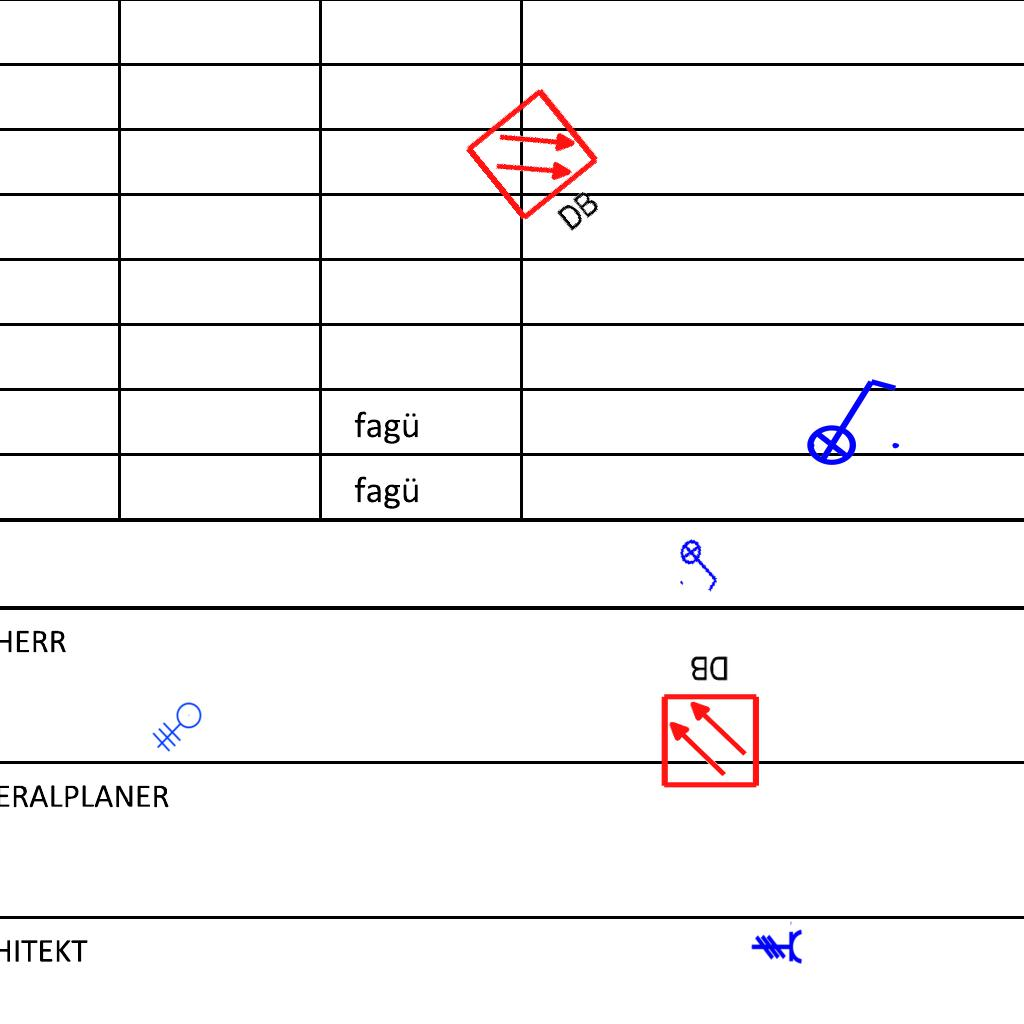Ausschalter_beleuchtet: (793, 371, 905, 467), (670, 530, 732, 598)
CEE_Drehstrom_Steckdose_16_32_A: (751, 920, 803, 965)
DB_Melder_in_Doppelboden_mit_Revisionsoeffnung_mind_40_x_40_cm: (454, 75, 638, 264), (652, 646, 766, 795)
Elektroanschluss_allgemein_400V_Geraeteanschlussdose_400V: (152, 702, 210, 758)
